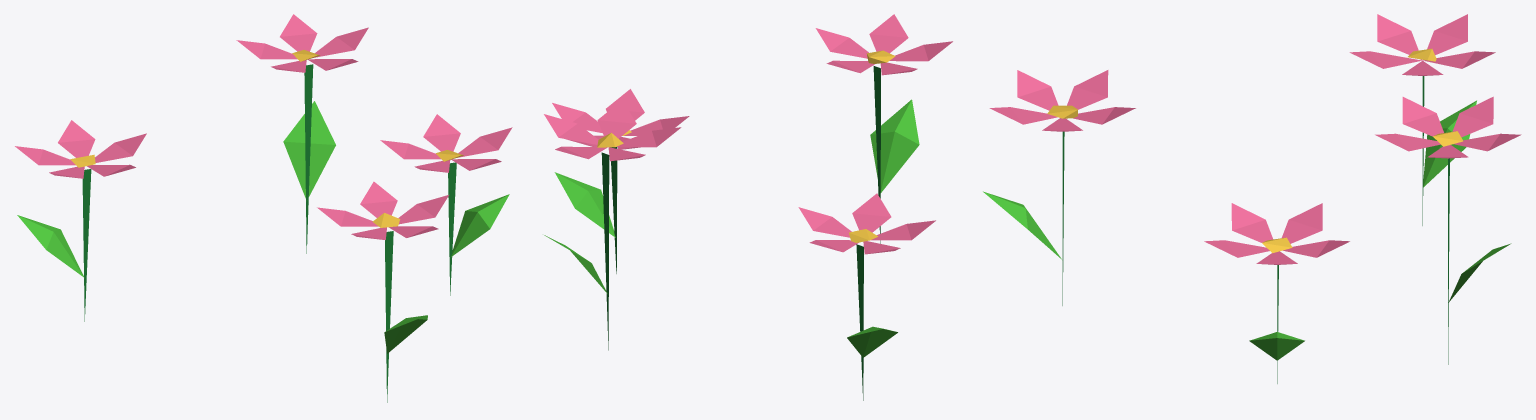
The model's file is flower_pink_patch.fbx.
3 views of the same model, side by side, from view 1: azimuth 30°, elevation 25°; view 2: azimuth 150°, elevation 25°; view 3: azimuth 270°, elevation 25° (orthographic). The views are drawn at different scales.
Visible parts, largest first — view 1: flower_pink_patch; view 2: flower_pink_patch; view 3: flower_pink_patch.
Part boxes in pixels (box(x1,y1,x2,y2)): flower_pink_patch: box(15, 14, 512, 402); flower_pink_patch: box(544, 14, 952, 400); flower_pink_patch: box(983, 14, 1521, 383).
Bounding box in the file's own units: 0.8 × 0.4 × 0.8.
